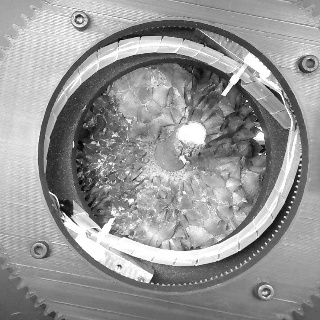base: (147, 138, 199, 178)
end: (175, 121, 207, 148)
